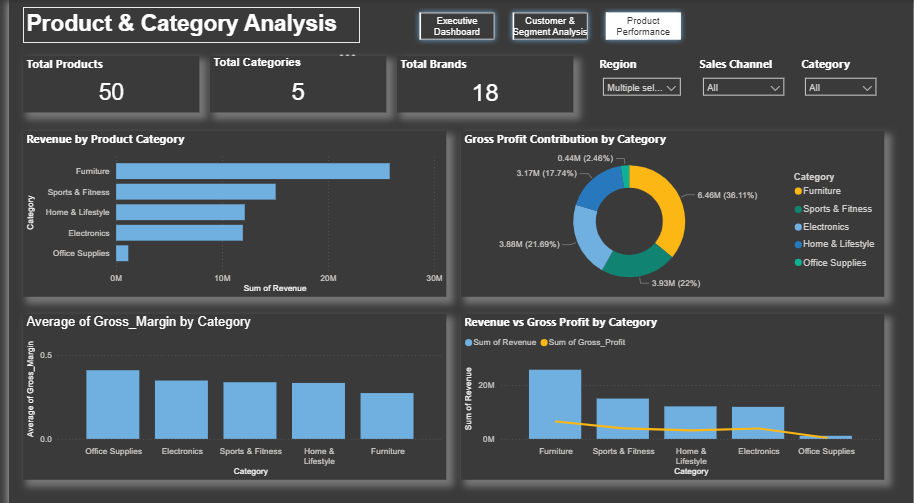

The dashboard page shown, as its layout file describes it:
{"tool":"powerbi","page":{"name":"Product Performance","canvas":[1280,720],"ordinal":2},"visuals":[{"type":"textbox","box":[20.2,10.1,476.6,50.4],"z":0},{"type":"card","title":"Total Products","fields":{"Values":["Count(nexamart_analytics fact_customer_profitability.Product_ID)"]},"box":[20,80,250,80],"z":1000},{"type":"card","title":"Total Categories","fields":{"Values":["Count(nexamart_analytics fact_customer_profitability.Category)"]},"box":[285,80,250,80],"z":2000},{"type":"card","title":"Total Brands","fields":{"Values":["Count(nexamart_analytics fact_customer_profitability.Brand)"]},"box":[550,80,250,80],"z":3000},{"type":"clusteredBarChart","title":"Revenue by Product Category","fields":{"Category":["nexamart_analytics fact_customer_profitability.Category"],"Y":["Sum(nexamart_analytics fact_customer_profitability.Revenue)"]},"box":[20,185,600,235],"z":4000},{"type":"donutChart","title":"Gross Profit Contribution by Category","fields":{"Category":["nexamart_analytics fact_customer_profitability.Category"],"Y":["Sum(nexamart_analytics fact_customer_profitability.Gross_Profit)"]},"box":[640,185,600,235],"z":5000},{"type":"clusteredColumnChart","fields":{"Category":["nexamart_analytics fact_customer_profitability.Category"],"Y":["Avg(nexamart_analytics fact_customer_profitability.Gross_Margin)"]},"box":[20,445,600,235],"z":6000},{"type":"lineClusteredColumnComboChart","title":"Revenue vs Gross Profit by Category","fields":{"Category":["nexamart_analytics fact_customer_profitability.Category"],"Y":["Sum(nexamart_analytics fact_customer_profitability.Revenue)"],"Y2":["Sum(nexamart_analytics fact_customer_profitability.Gross_Profit)"]},"box":[640,445,600,235],"z":7000},{"type":"slicer","title":"Region","fields":{"Values":["nexamart_analytics fact_customer_profitability.Region"]},"box":[832.3,80,129.6,80],"z":8000},{"type":"slicer","title":"Sales Channel","fields":{"Values":["nexamart_analytics fact_customer_profitability.Sales_Channel"]},"box":[973.4,80,135.4,80],"z":9000},{"type":"slicer","title":"Category","fields":{"Values":["nexamart_analytics fact_customer_profitability.Category"]},"box":[1118.9,80,121,80],"z":10000},{"type":"pageNavigator","box":[574.6,10.1,387.4,54.7],"z":11000}]}

Visuals, with their boxes in screenshot pixels (x1, y1, x2, y2), scaled from the page's 1280x720 canvas onto the 914x503 screenshot:
textbox: 14/7/355/42
"Total Products" card: 14/56/193/112
"Total Categories" card: 204/56/382/112
"Total Brands" card: 393/56/571/112
"Revenue by Product Category" clusteredBarChart: 14/129/443/293
"Gross Profit Contribution by Category" donutChart: 457/129/885/293
clusteredColumnChart - nexamart_analytics fact_customer_profitability.Category x Avg(nexamart_analytics fact_customer_profitability.Gross_Margin): 14/311/443/475
"Revenue vs Gross Profit by Category" lineClusteredColumnComboChart: 457/311/885/475
"Region" slicer: 594/56/687/112
"Sales Channel" slicer: 695/56/792/112
"Category" slicer: 799/56/885/112
pageNavigator: 410/7/687/45
